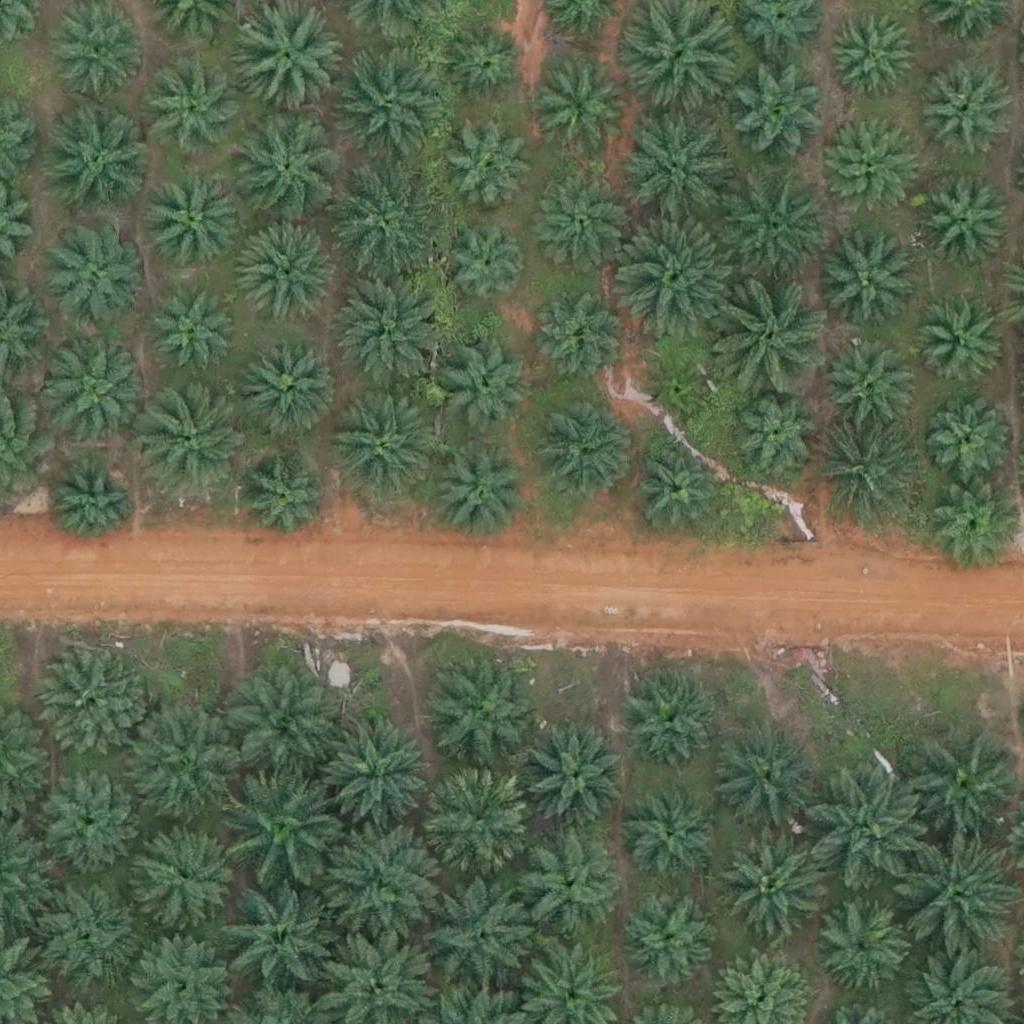Kelapa_Sawit: (425, 653, 538, 767), (323, 717, 436, 831), (714, 276, 827, 390), (337, 48, 450, 162), (809, 772, 922, 885), (895, 829, 1008, 942), (421, 767, 534, 880), (319, 831, 432, 944), (229, 768, 342, 881), (36, 649, 149, 762), (813, 415, 926, 528), (227, 4, 340, 117), (713, 722, 825, 836), (510, 833, 622, 947), (424, 877, 536, 991), (133, 706, 245, 820), (325, 389, 437, 503), (909, 728, 1021, 841), (223, 881, 335, 994), (227, 669, 339, 782), (27, 877, 139, 990), (717, 169, 829, 282), (622, 111, 734, 224), (619, 222, 731, 335), (328, 167, 440, 280), (336, 279, 448, 392), (230, 111, 342, 224), (140, 385, 252, 498), (620, 671, 720, 772), (523, 729, 623, 830), (135, 822, 235, 923), (37, 763, 137, 864), (825, 123, 925, 224), (821, 333, 921, 434), (728, 384, 828, 485), (723, 64, 823, 165), (536, 402, 636, 503), (430, 446, 530, 547), (241, 337, 341, 438), (146, 62, 246, 163), (142, 173, 242, 274), (46, 113, 146, 214), (43, 222, 143, 323), (722, 841, 822, 941), (618, 890, 718, 990), (621, 785, 721, 885), (923, 479, 1023, 579), (821, 242, 921, 342), (240, 220, 340, 320), (48, 345, 148, 445), (921, 176, 1009, 264), (914, 300, 1002, 388), (918, 392, 1006, 480), (827, 12, 915, 100), (537, 177, 625, 265), (446, 128, 534, 216), (442, 222, 530, 310), (242, 460, 330, 548), (634, 443, 721, 532), (154, 288, 241, 377), (818, 898, 905, 986), (923, 64, 1010, 152), (542, 73, 629, 161), (535, 293, 622, 381), (441, 25, 528, 113), (442, 339, 529, 427), (49, 460, 136, 548), (650, 361, 713, 424)
